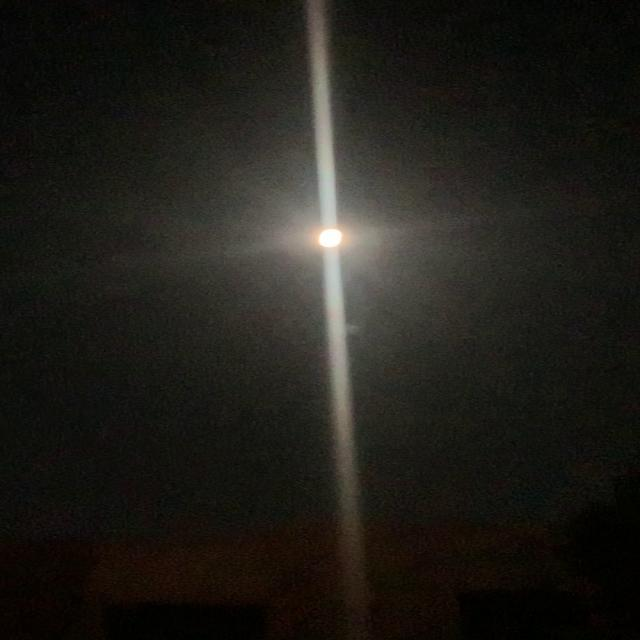moon: (305, 226, 357, 258)
